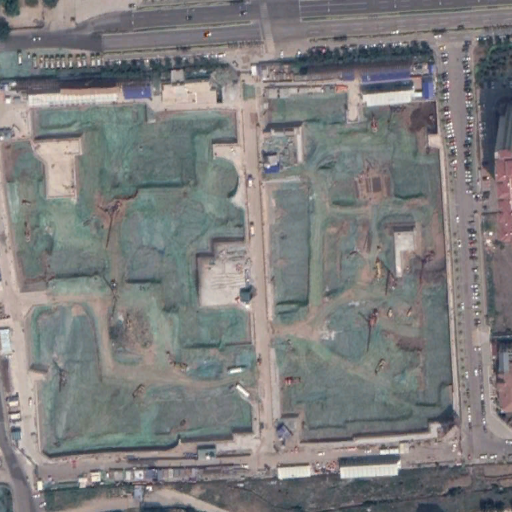cw: (7, 91, 454, 458)
